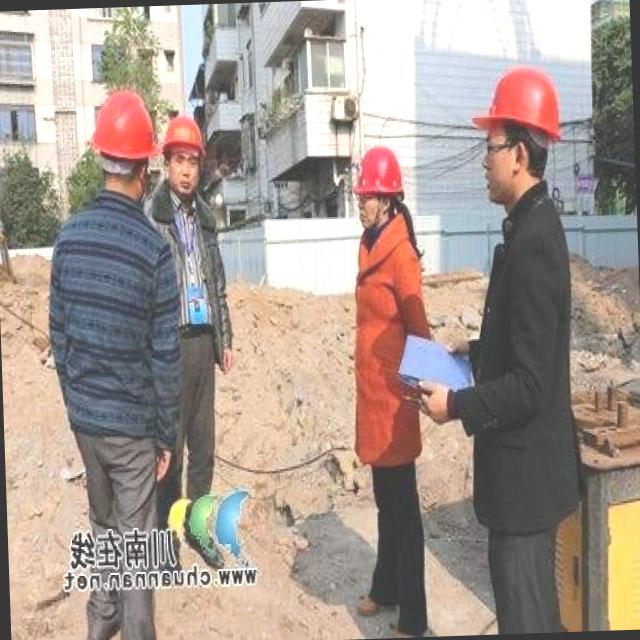helmet: (465, 59, 571, 144), (89, 89, 157, 170), (348, 140, 404, 200), (157, 108, 205, 160)
no-vest: (454, 210, 584, 539), (50, 218, 160, 440), (346, 228, 433, 452), (162, 202, 219, 328)
